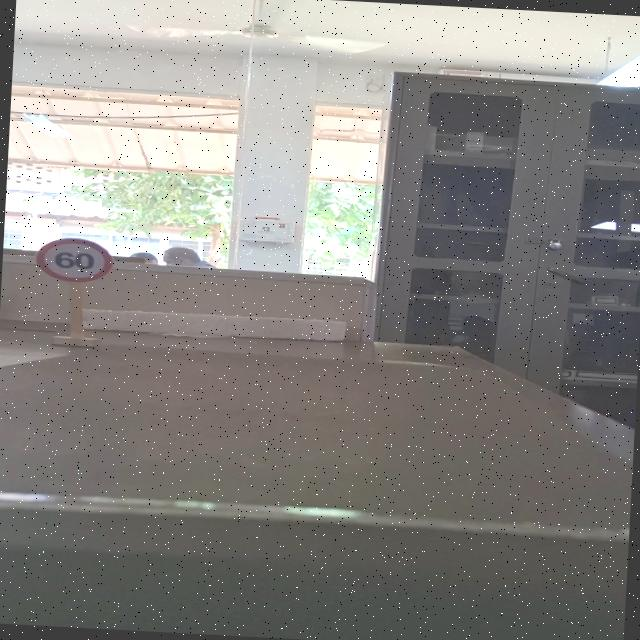Speed60: (34, 234, 116, 286)
